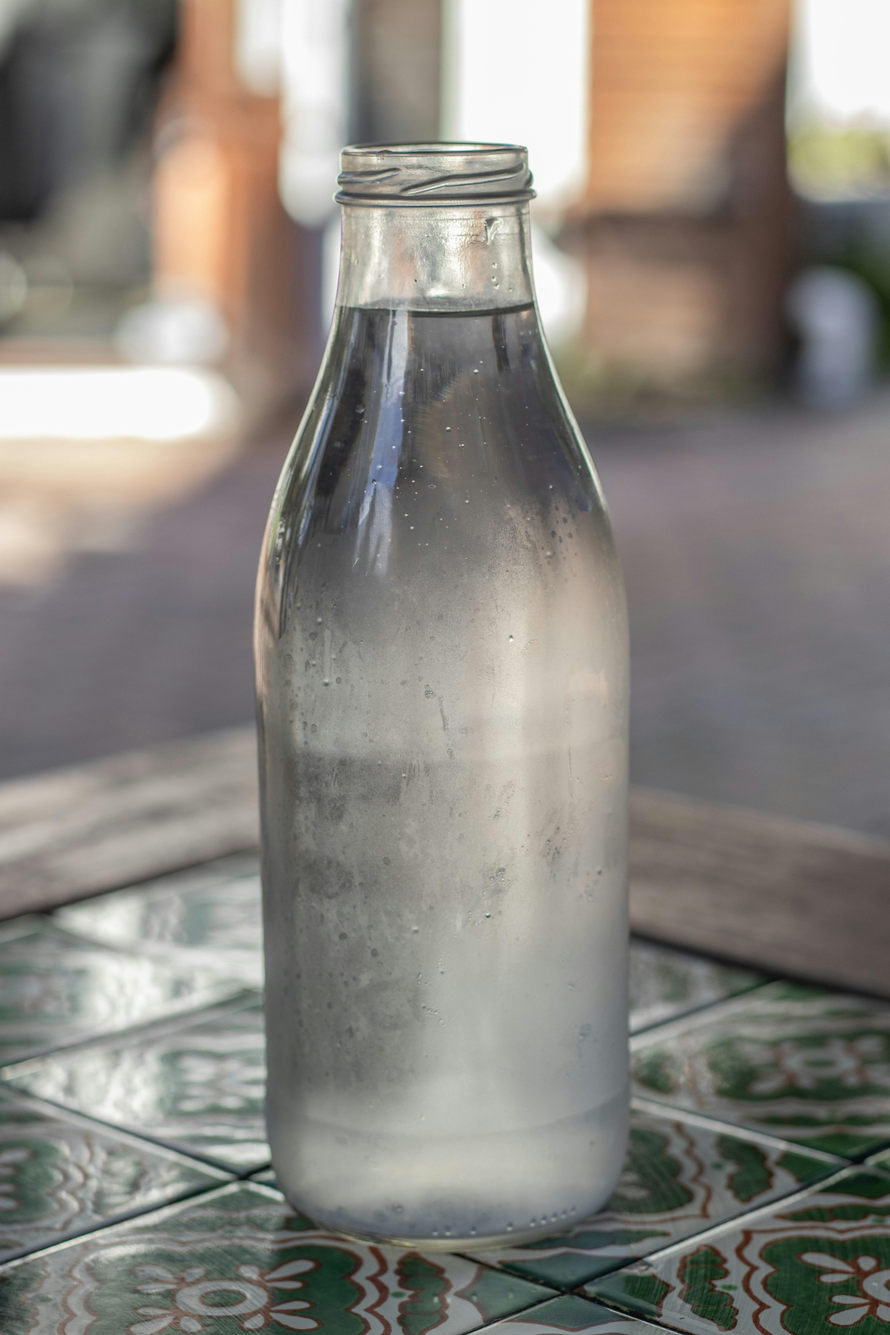Bottle-Detection: (178, 76, 743, 1335)
